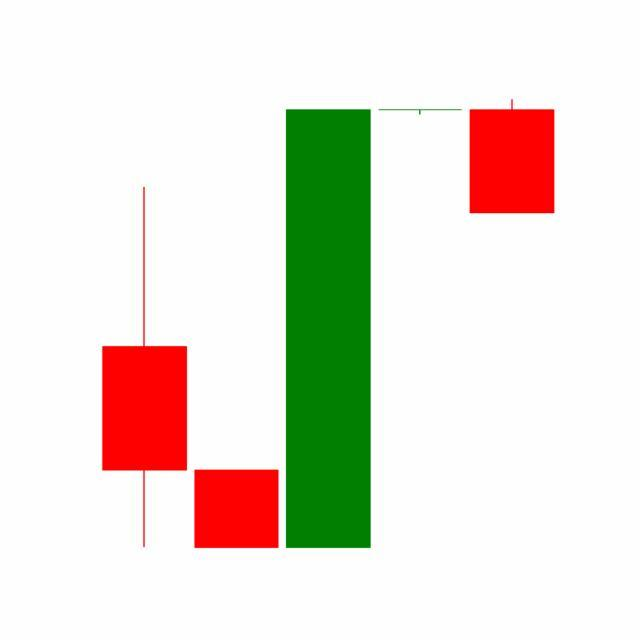Hanging Man: (374, 110, 468, 116)
